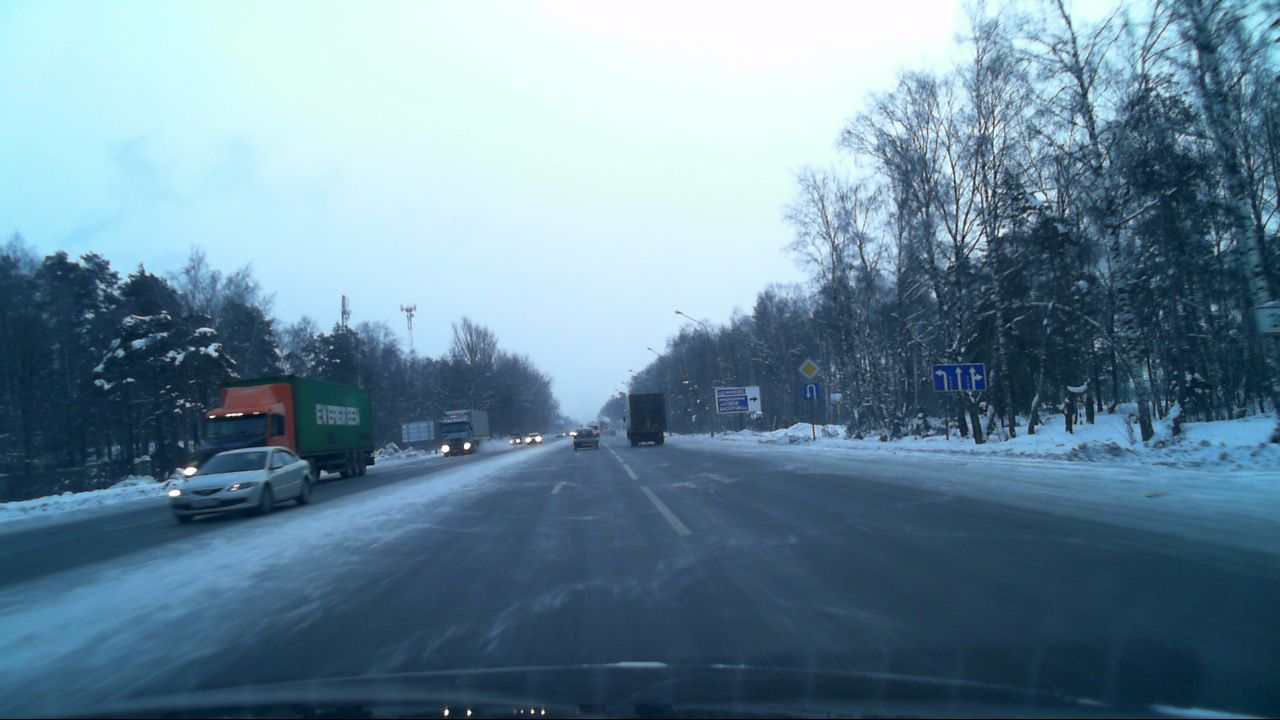U-turn: (802, 383, 819, 401)
